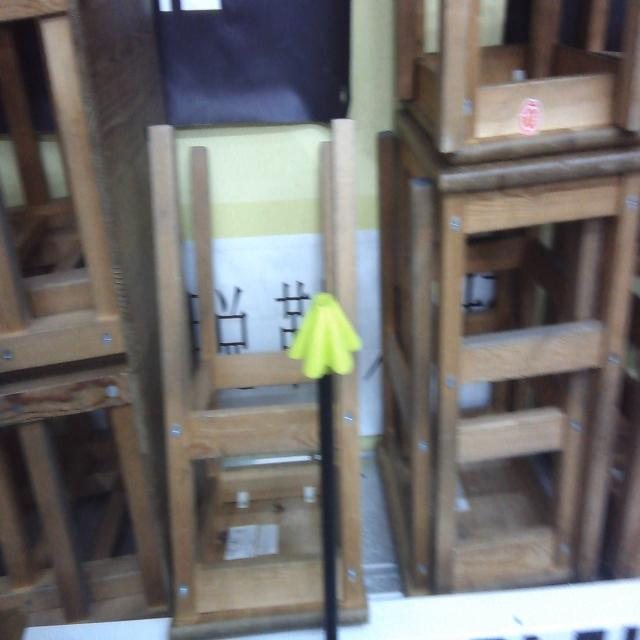Yellow-Stake-Head: (288, 292, 361, 379)
